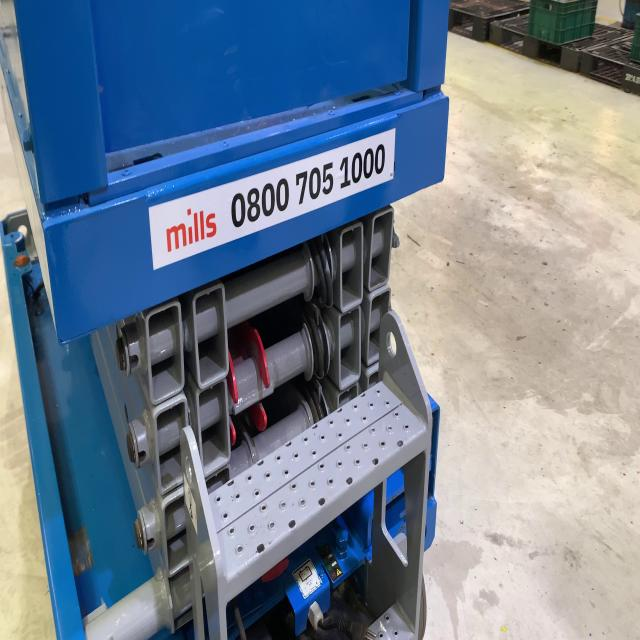Adesivo Longo: (143, 125, 396, 277)
